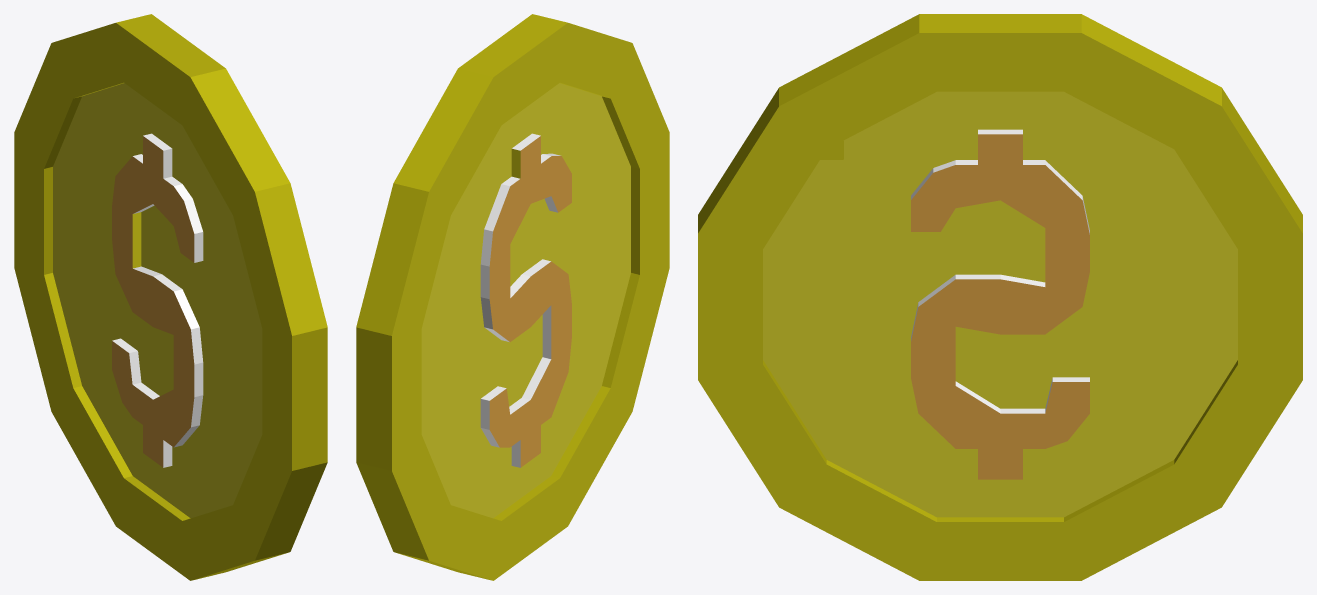
3 renders of one model, left to right at view 1: azimuth 30°, elevation 25°; view 2: azimuth 150°, elevation 25°; view 3: azimuth 270°, elevation 25°, orthographic. The views are drawn at different scales.
Parts seen in each view (by area): view 1: tube, cylinder, cuboid; view 2: tube, cylinder, cuboid; view 3: cylinder, tube, cuboid.
Part boxes in pixels (x1=…): tube: x1=14, y1=14, x2=327, y2=580; cylinder: x1=53, y1=83, x2=262, y2=518; cuboid: x1=112, y1=133, x2=203, y2=467; tube: x1=356, y1=14, x2=669, y2=580; cylinder: x1=421, y1=83, x2=630, y2=518; cuboid: x1=480, y1=133, x2=571, y2=467; cylinder: x1=763, y1=91, x2=1237, y2=517; tube: x1=698, y1=14, x2=1302, y2=580; cuboid: x1=911, y1=129, x2=1089, y2=479.
Size of the model in its own units: 0.0625 by 0.8438 by 0.8438.
1 material, 1 textured.
